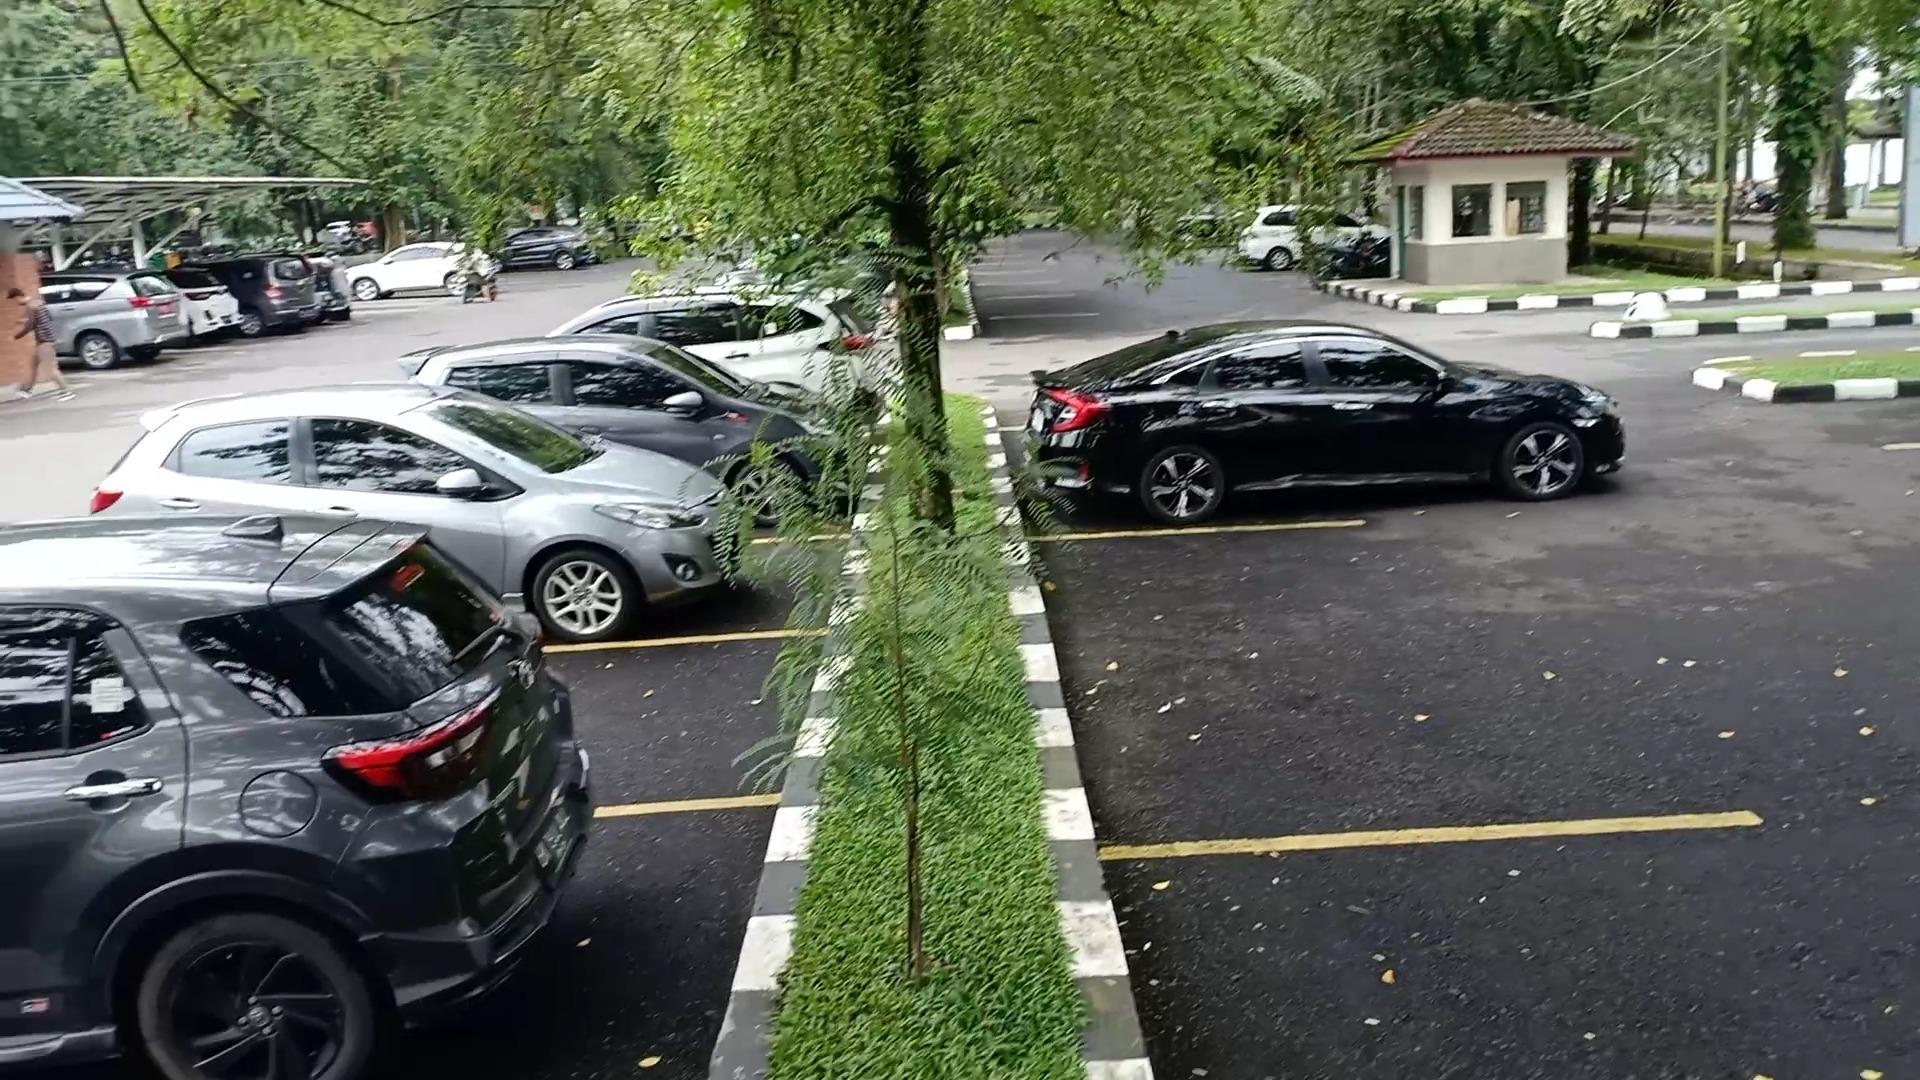empty: (1076, 530, 1719, 840), (564, 630, 801, 814)
occupied: (1037, 348, 1591, 546), (457, 455, 835, 646)
